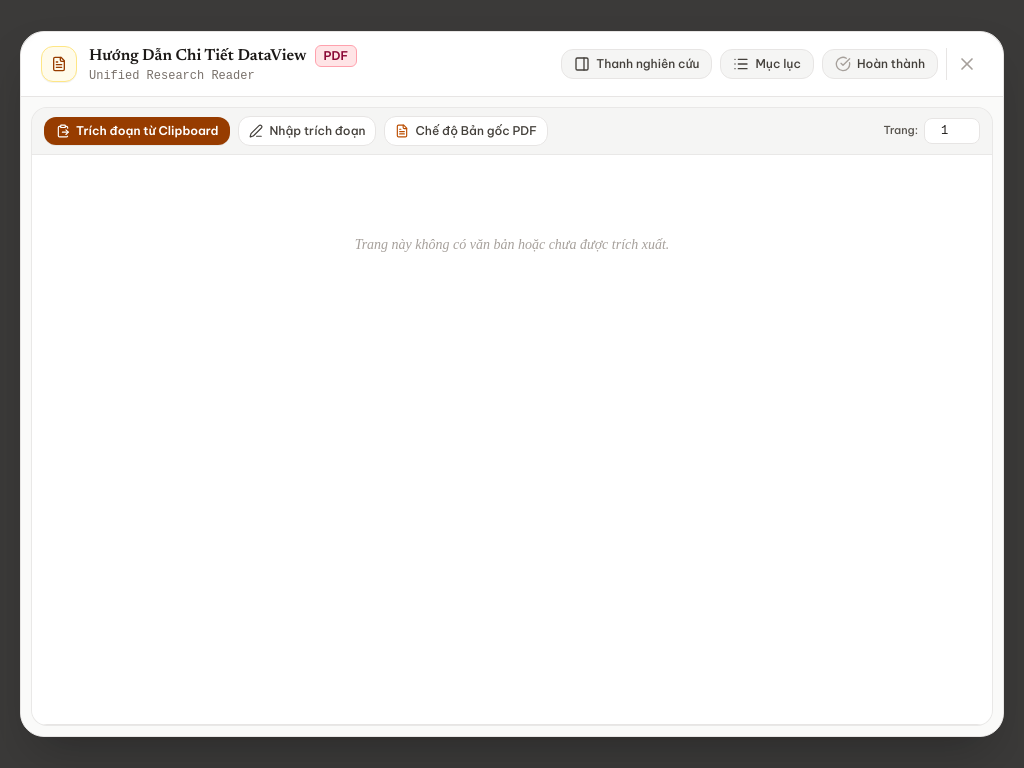
Test: Reader Selection Actions Flow & Persistence › 2. Add to Inbox action adds new item to researchInbox and renders immediately in Inbox sidebar panel
Click the button with test id "pdf-manual-quote-btn" at (308,131), box x1=238 y1=116 x2=376 y2=146
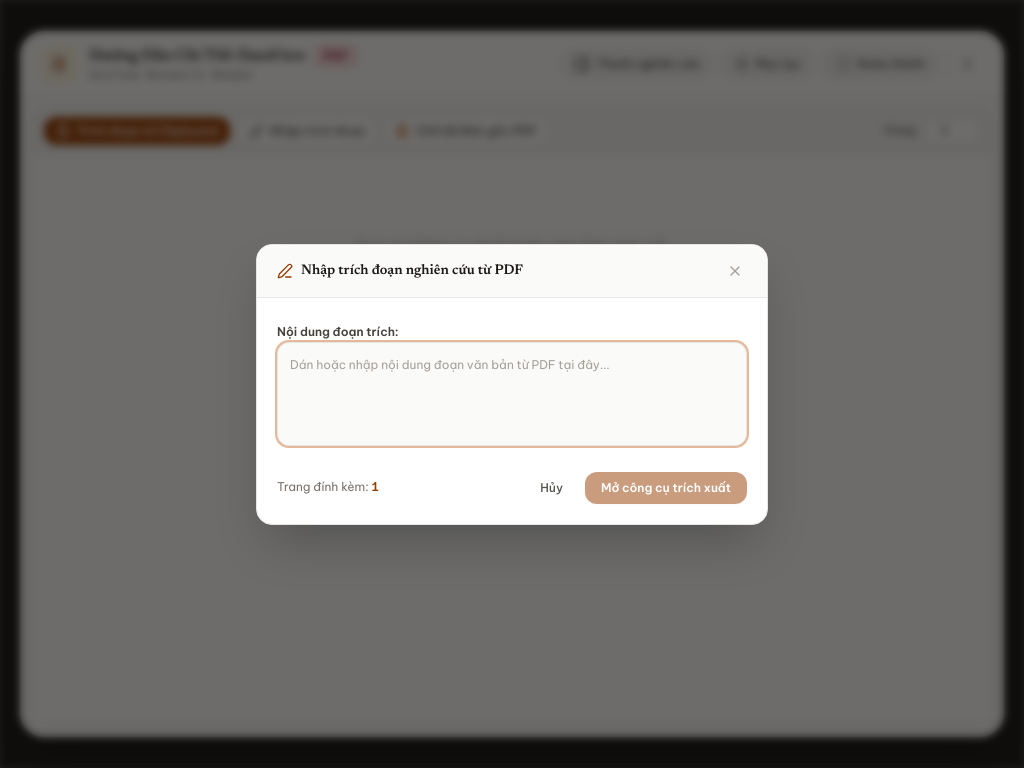
Type "Đoạn trích mới gửi vào Research Inbox." into the text box with test id "pdf-manual-quote-textarea" at (512,394), box x1=277 y1=342 x2=747 y2=446
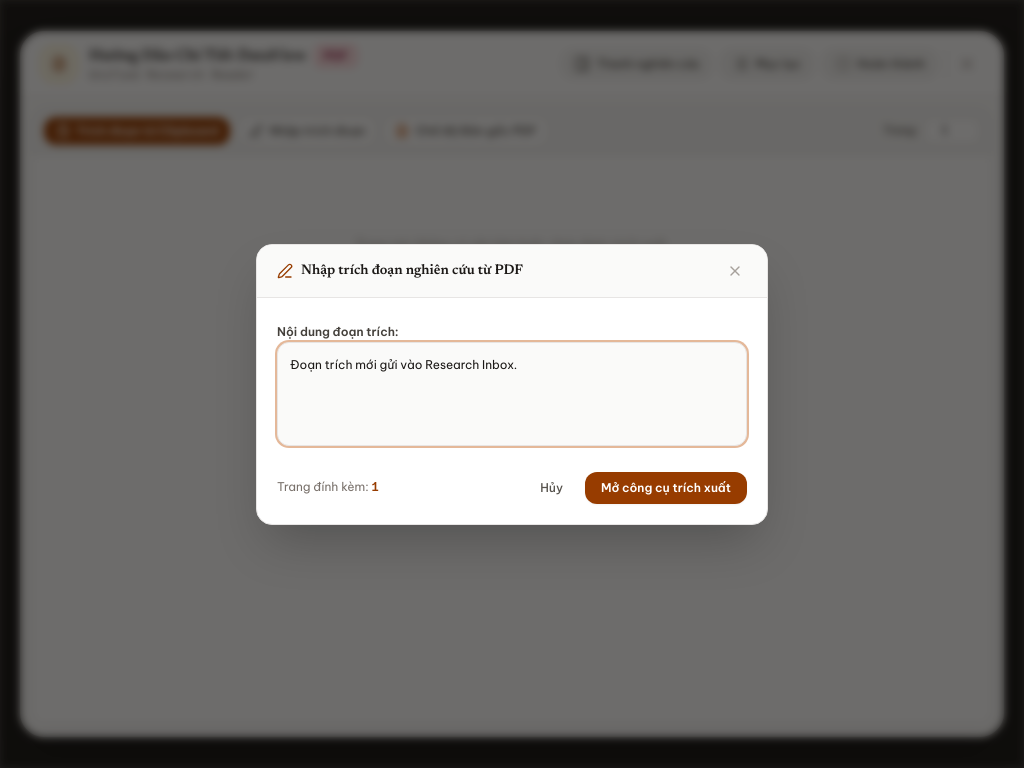
Click the button with test id "pdf-manual-quote-submit-btn" at (666,488), box x1=585 y1=472 x2=747 y2=504
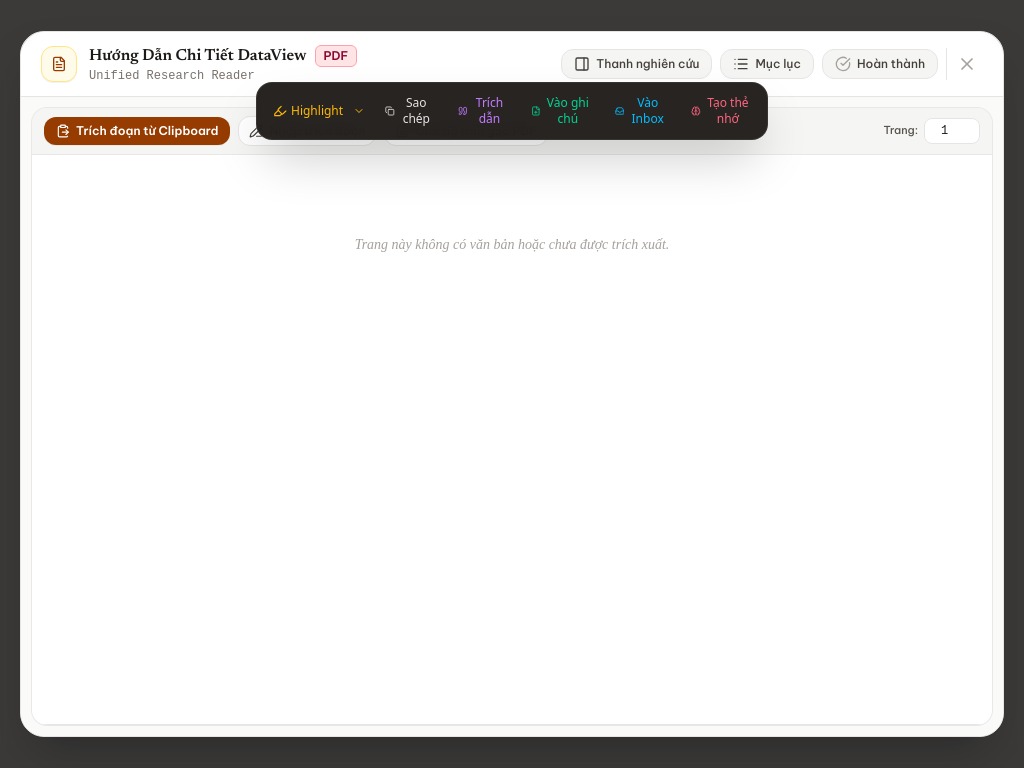
Click the button with aria-label "Thêm vào Inbox" at (641,111), box x1=605 y1=89 x2=677 y2=133
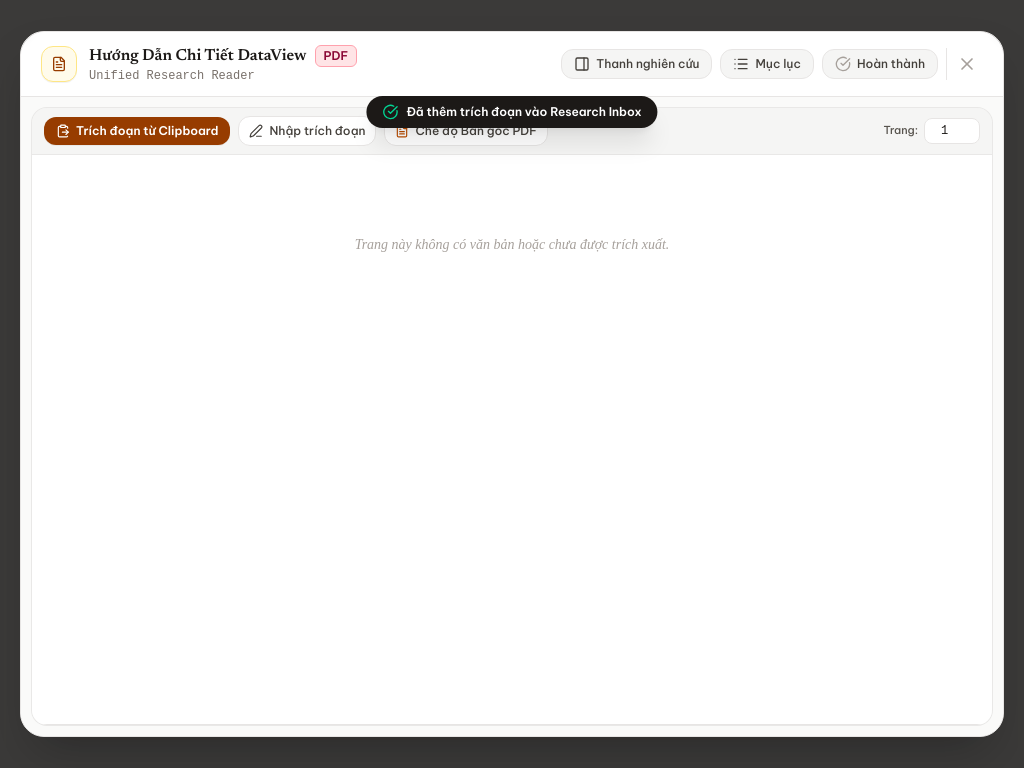
Expected: the text "Đã thêm trích đoạn vào Research Inbox" is shown, x1=406 y1=104 x2=642 y2=120
Mở Sidebar tab Inbox
Click the button with test id "reader-toggle-sidebar-btn" at (637,64), box x1=561 y1=49 x2=712 y2=79
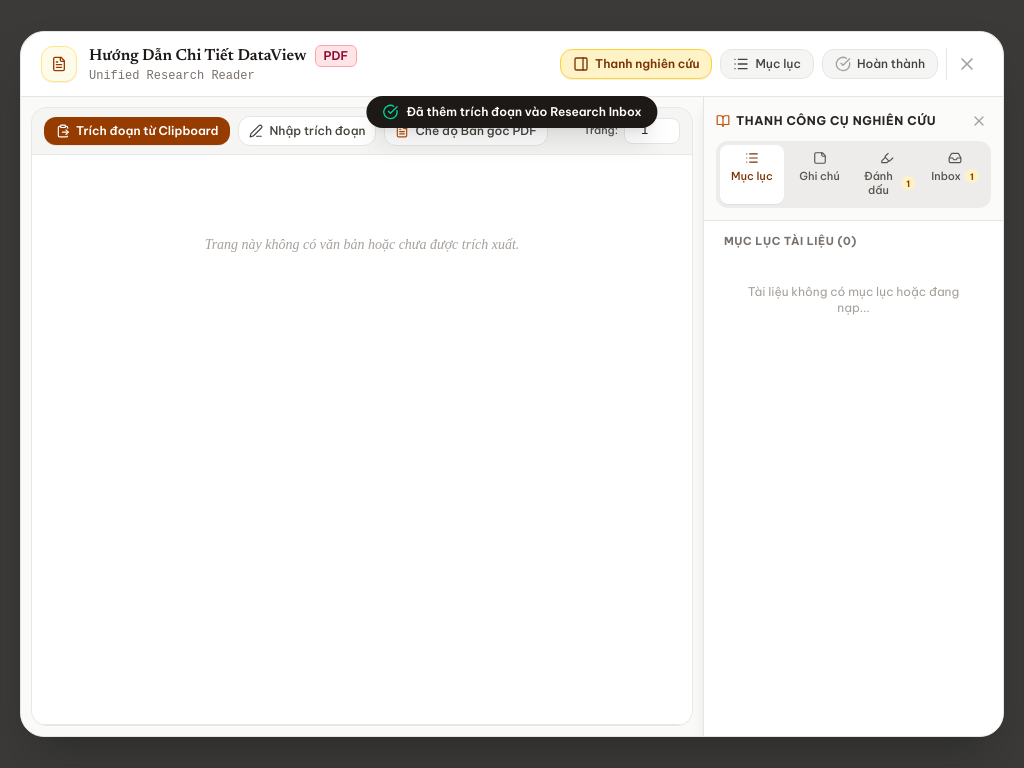
Click the tab with test id "sidebar-tab-inbox" at (955,174), box x1=923 y1=145 x2=987 y2=204
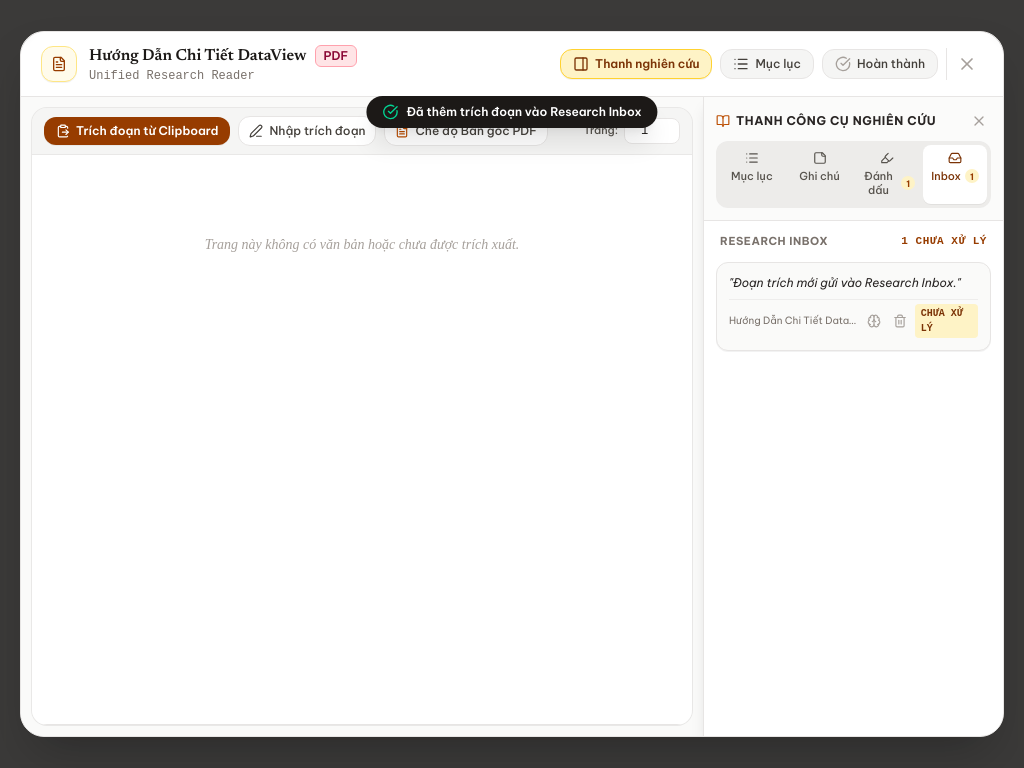
Expected: the text "\"Đoạn trích mới gửi vào Research Inbox.\"" is shown, x1=729 y1=274 x2=978 y2=290
